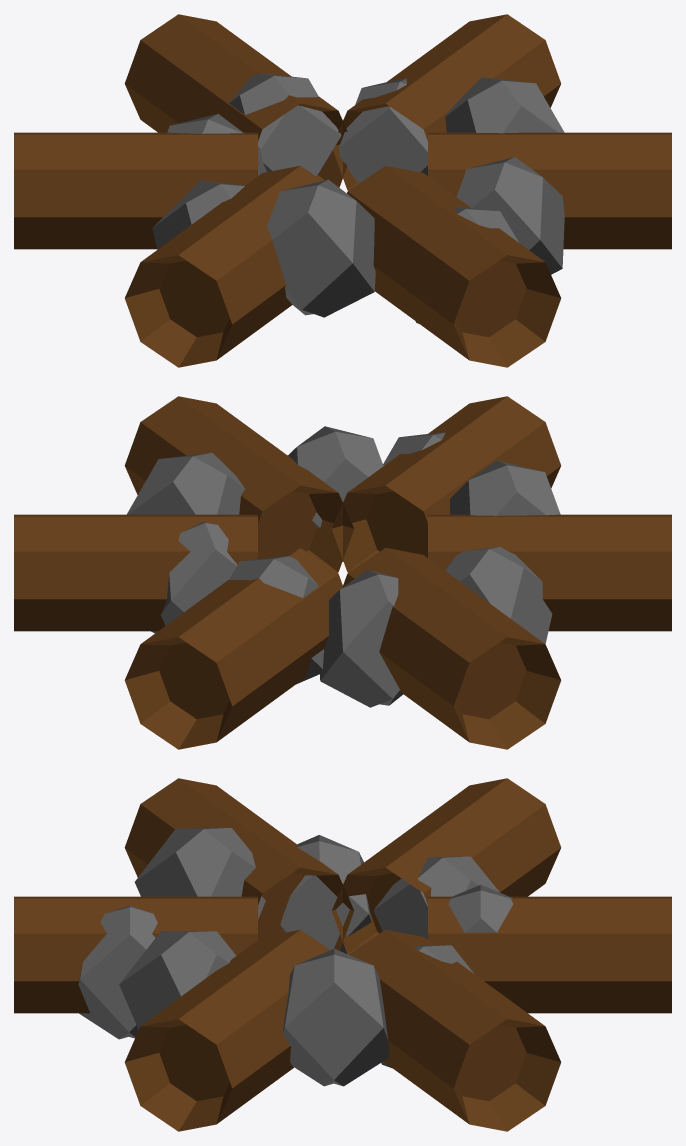
Rendered from fogata.glb.
The picture shows the model from 3 angles, top to bottom: view 1: azimuth 30°, elevation 25°; view 2: azimuth 150°, elevation 25°; view 3: azimuth 270°, elevation 25°; orthographic projection.
Visible parts, largest first — view 1: Cilindro.001, Esfera; view 2: Cilindro.001, Esfera; view 3: Cilindro.001, Esfera.
Part boxes in pixels (<box>): Cilindro.001: <box>14,14,671,367</box>; Esfera: <box>152,73,564,323</box>; Cilindro.001: <box>14,396,671,749</box>; Esfera: <box>127,426,560,707</box>; Cilindro.001: <box>14,778,671,1131</box>; Esfera: <box>78,828,513,1086</box>.
Size of the model in its own units: 5.01 by 1.4 by 5.21.
